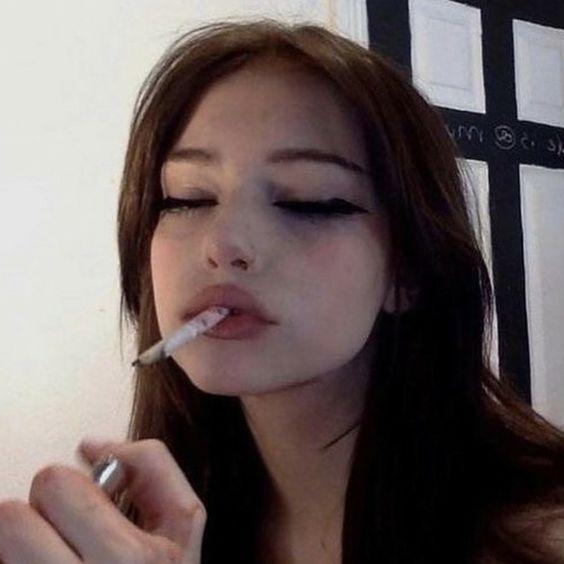cigarette: (133, 307, 230, 368)
